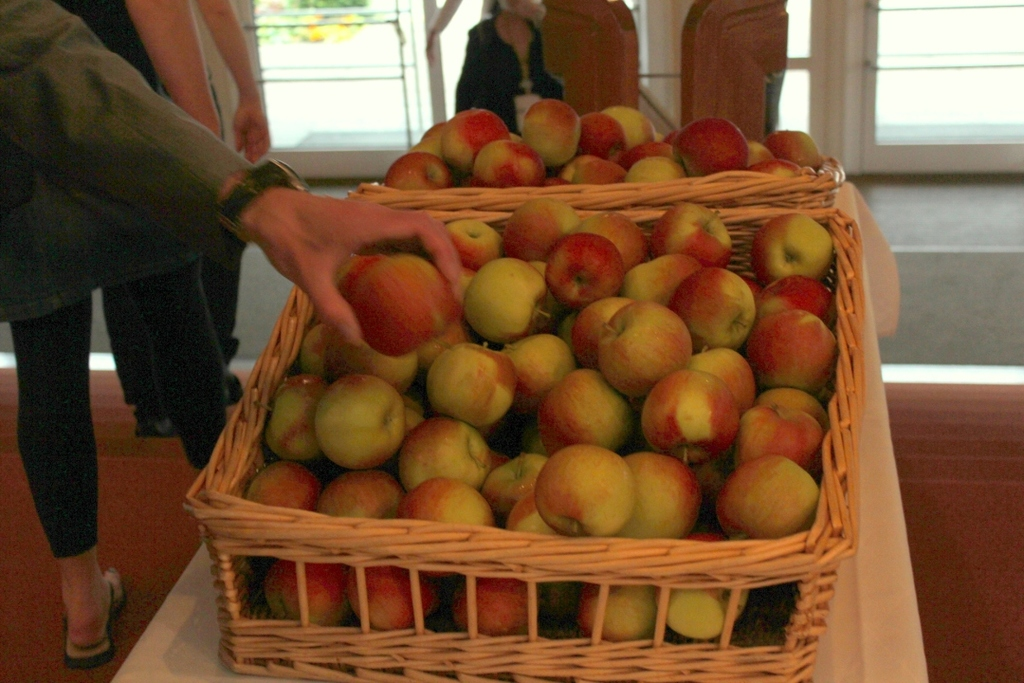Apple: (238, 95, 841, 638), (648, 363, 748, 454)
